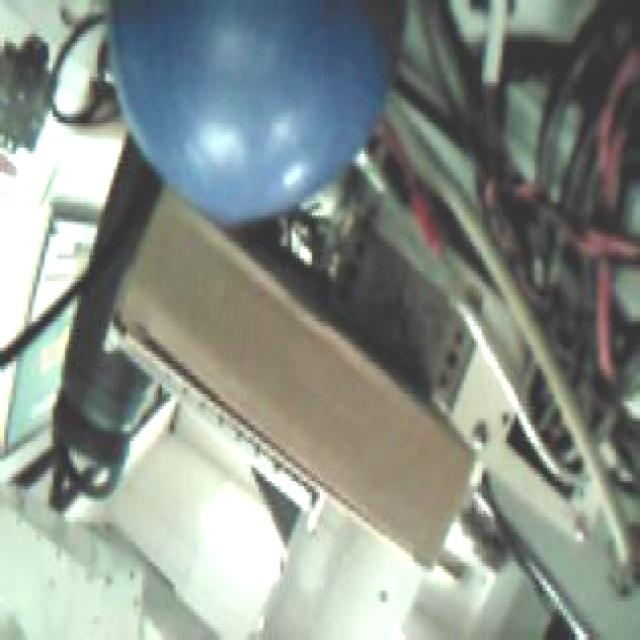BallPurple: (95, 5, 406, 220)
